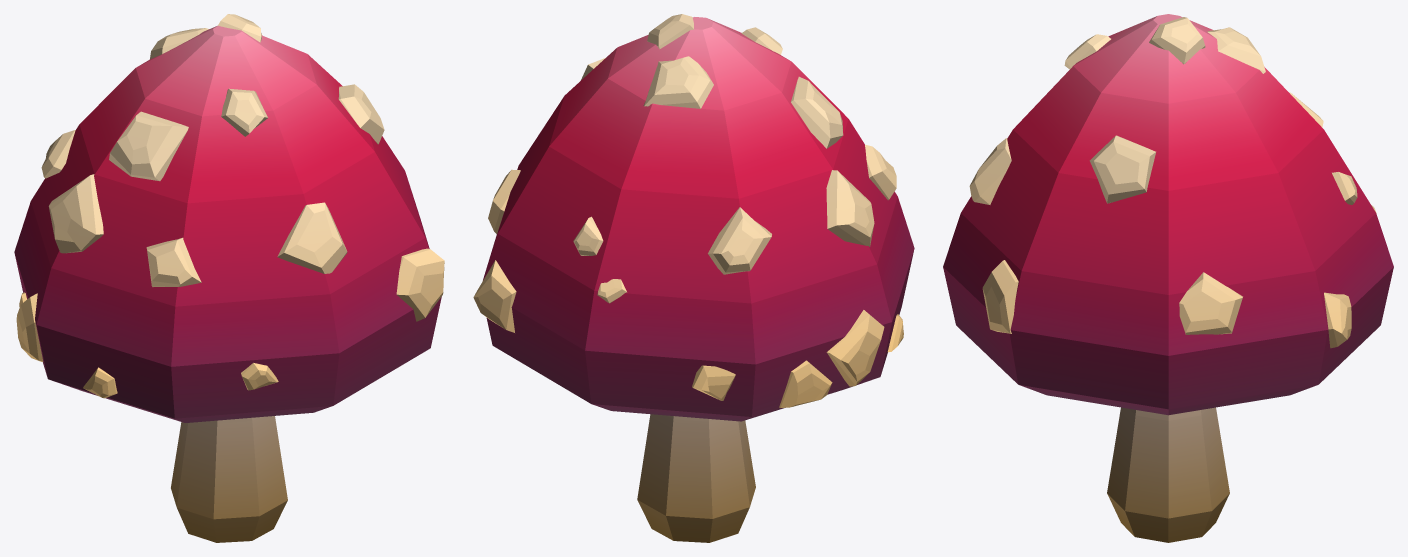
File: Gradient_Mushroom_Red_large.glb
The picture shows the model from 3 angles, left to right: view 1: azimuth 30°, elevation 25°; view 2: azimuth 150°, elevation 25°; view 3: azimuth 270°, elevation 25°; orthographic projection.
Parts seen in each view (by area): view 1: Red Mushroom big g; view 2: Red Mushroom big g; view 3: Red Mushroom big g.
Part boxes in pixels (bbox=[...]): Red Mushroom big g: bbox=[14, 14, 444, 542]; Red Mushroom big g: bbox=[473, 14, 914, 542]; Red Mushroom big g: bbox=[943, 14, 1393, 542].
Size of the model in its own units: 0.4113 by 0.5125 by 0.4113.
Materials: 1 (1 with a texture image).
